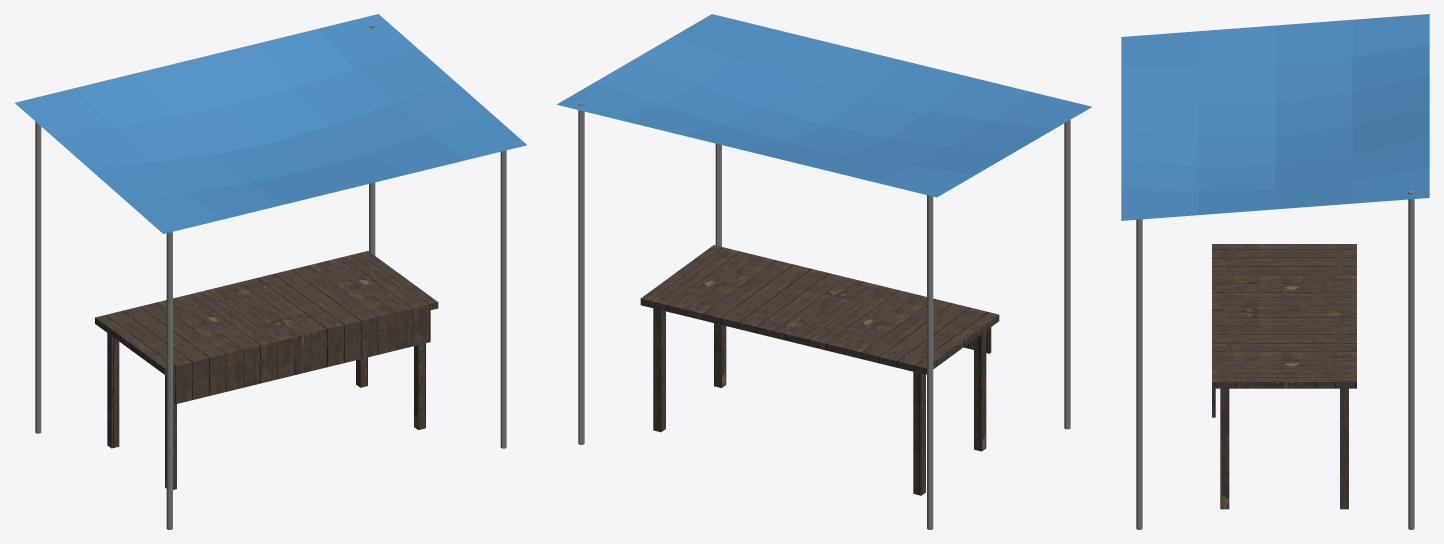
The model's file is vendor_stall.glb.
3 renders of one model, left to right at view 1: azimuth 30°, elevation 25°; view 2: azimuth 150°, elevation 25°; view 3: azimuth 270°, elevation 25°, orthographic. The views are drawn at different scales.
Parts seen in each view (by area): view 1: vendor_stall; view 2: vendor_stall; view 3: vendor_stall.
Part boxes in pixels (<box>): vendor_stall: <box>15,14,526,529</box>; vendor_stall: <box>557,14,1092,529</box>; vendor_stall: <box>1121,14,1429,529</box>.
Size of the model in its own units: 2.4 by 2.06 by 1.7.
Materials: 3 (1 with a texture image).
